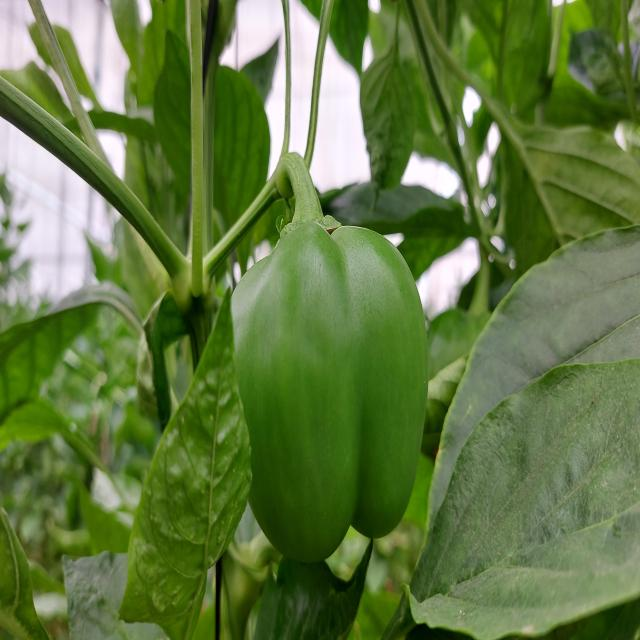Green--Not-ready-to-harvest: (226, 241, 432, 575)
